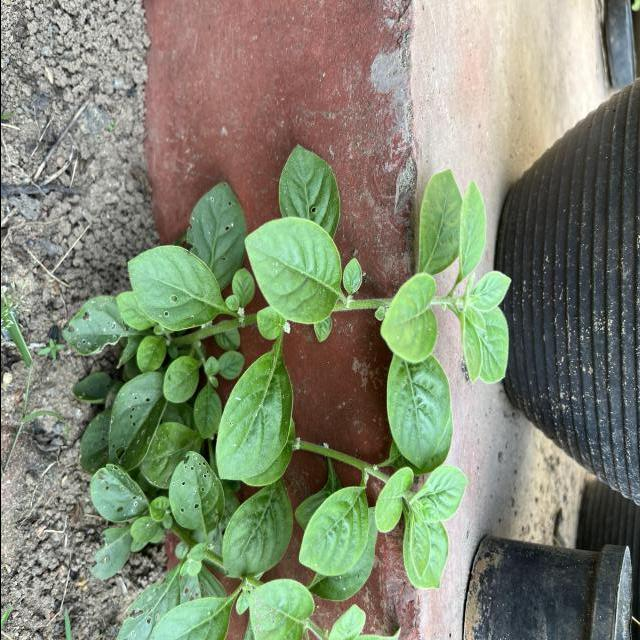Aerva lanata: (213, 339, 295, 482), (241, 214, 344, 326), (125, 243, 226, 333), (383, 351, 452, 472), (220, 481, 294, 583), (296, 479, 371, 578), (276, 141, 342, 240), (416, 166, 466, 275), (416, 462, 471, 524), (473, 306, 510, 386), (466, 268, 514, 315)
